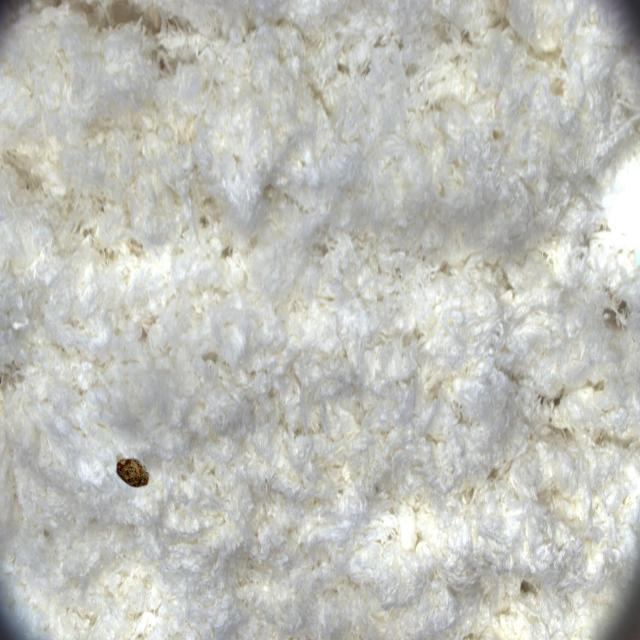dust: (106, 429, 170, 526)
